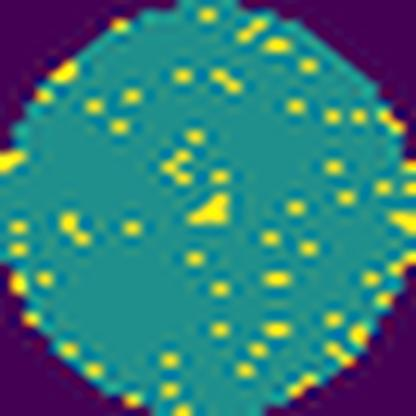Center: (187, 190, 238, 227)
